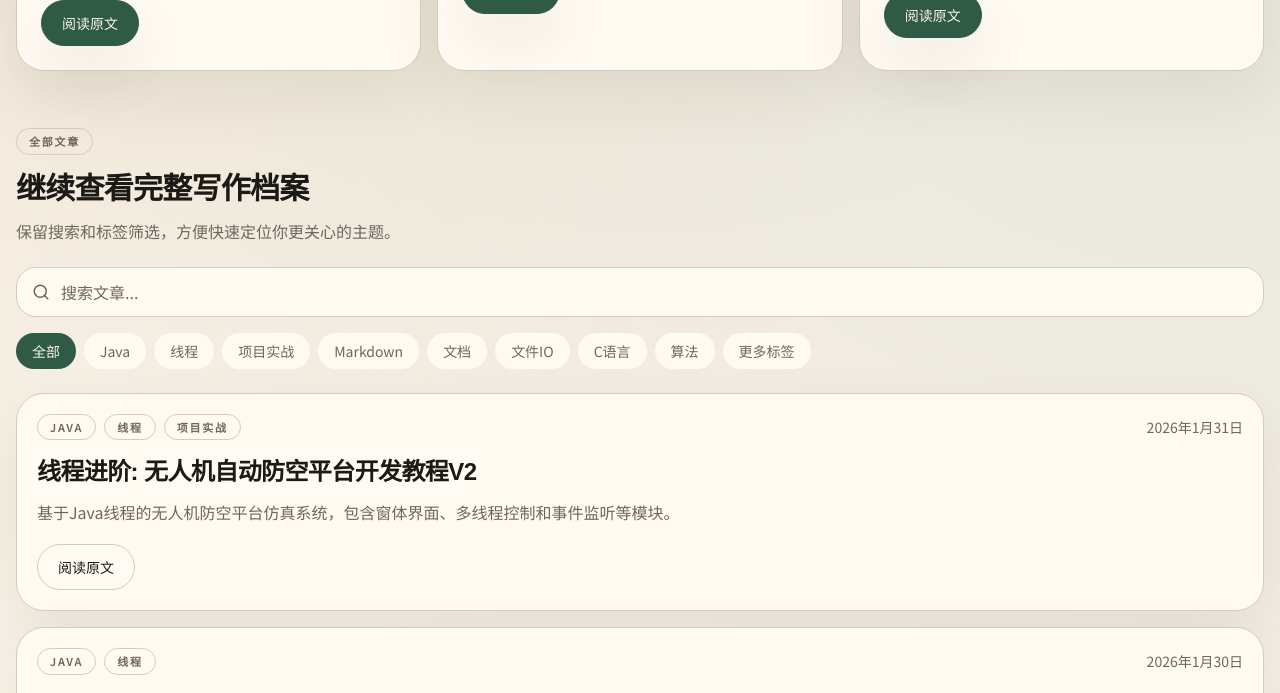
Test case: content page redesign plan › blog page collapses long tag filter lists until expanded
(page scrolled)
Expected: the button "VSCode" is not shown
Step 1. Click the button "更多标签" → (767,350), box [723,332,811,368]
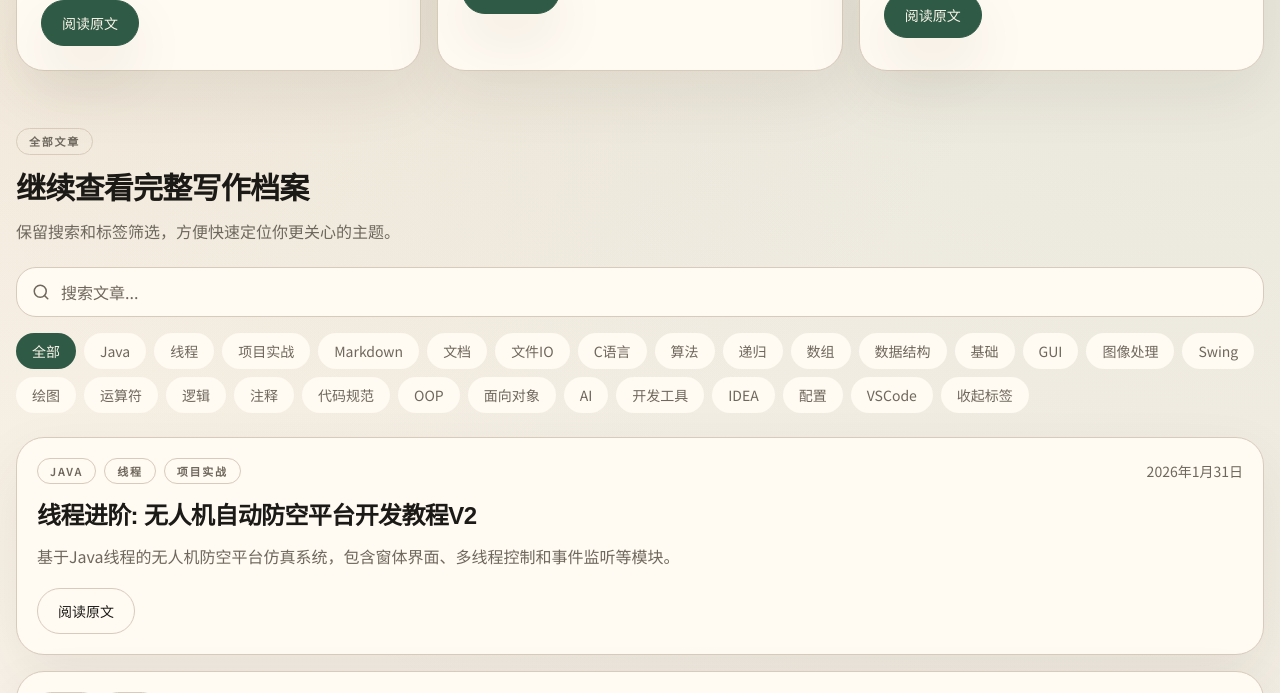
Expected: the button "VSCode" is shown, [851,376,933,412]
